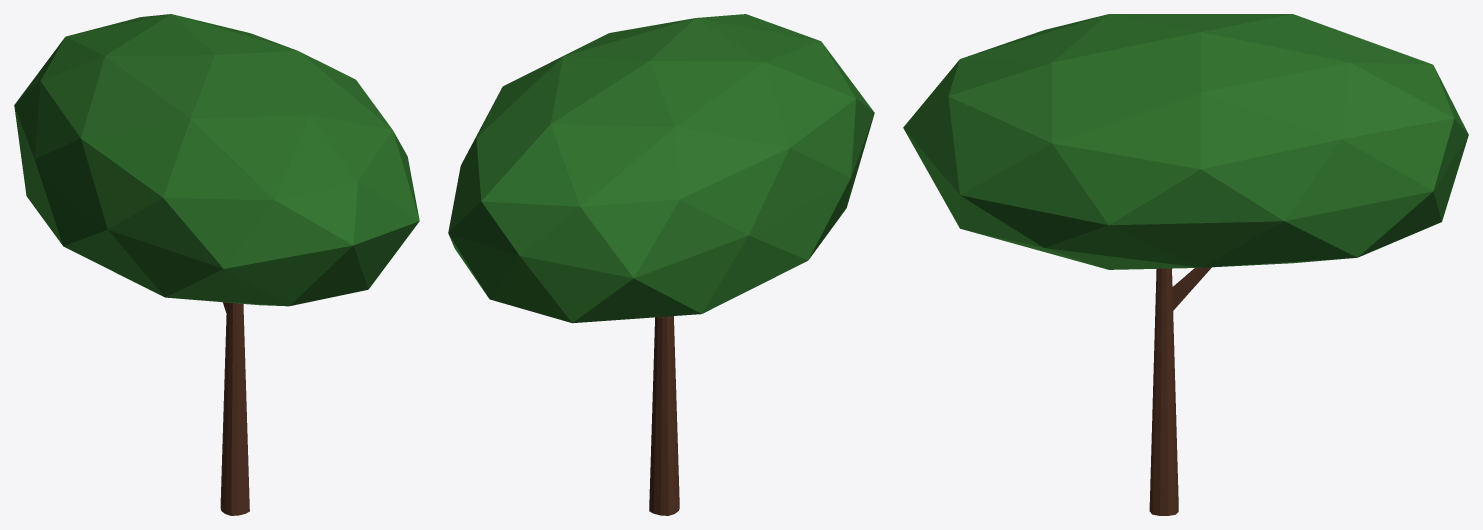
The model's file is arvore01 (1).fbx.
The picture shows the model from 3 angles, left to right: view 1: azimuth 30°, elevation 25°; view 2: azimuth 150°, elevation 25°; view 3: azimuth 270°, elevation 25°; orthographic projection. The views are drawn at different scales.
Parts seen in each view (by area): view 1: folha, tronco; view 2: folha, tronco; view 3: folha, tronco.
Part boxes in pixels (bbox=[...]): folha: bbox=[14, 14, 419, 306]; tronco: bbox=[220, 302, 249, 515]; folha: bbox=[448, 14, 874, 323]; tronco: bbox=[649, 316, 679, 515]; folha: bbox=[903, 14, 1468, 269]; tronco: bbox=[1149, 267, 1211, 515].
Bounding box in the file's own units: 1168 × 1640 × 1766.
